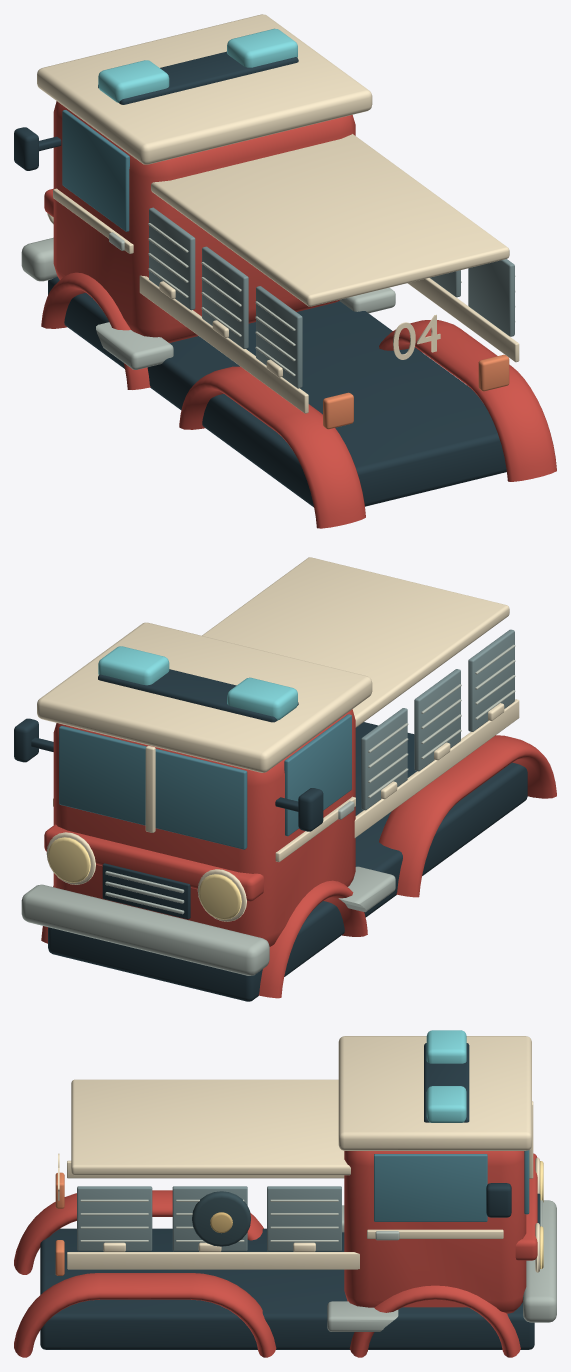
Rendered from engine_body.glb.
3 views of the same model, one above another, from view 1: azimuth 30°, elevation 25°; view 2: azimuth 150°, elevation 25°; view 3: azimuth 270°, elevation 25° (orthographic). The views are drawn at different scales.
Visible parts, largest first — view 1: Chassis; view 2: Chassis; view 3: Chassis.
Boxes of the visible parts, bbox=[...] form: Chassis: bbox=[14, 14, 556, 528]; Chassis: bbox=[14, 557, 556, 1001]; Chassis: bbox=[14, 1030, 556, 1357].
Bounding box in the file's own units: 2.69 × 2.33 × 4.78.
